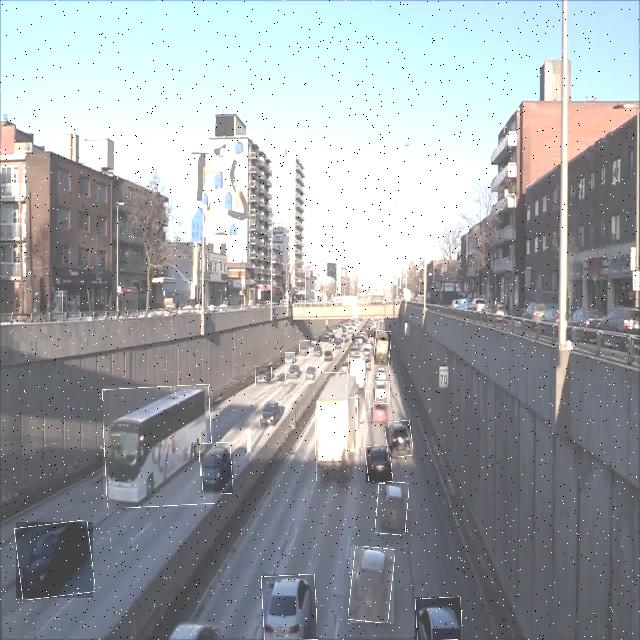Car: (16, 522, 93, 598), (262, 574, 316, 640), (350, 547, 394, 623), (415, 597, 461, 640), (376, 481, 408, 535), (201, 443, 233, 494), (385, 420, 412, 457), (366, 446, 392, 484), (259, 398, 281, 428), (373, 403, 389, 428), (256, 366, 272, 386), (376, 381, 390, 402), (285, 363, 300, 379), (299, 340, 310, 357), (305, 365, 316, 380), (314, 343, 324, 357), (285, 352, 295, 365), (324, 350, 334, 362)
Truck: (104, 386, 214, 507), (316, 372, 358, 481), (347, 356, 366, 398), (374, 331, 391, 366)
